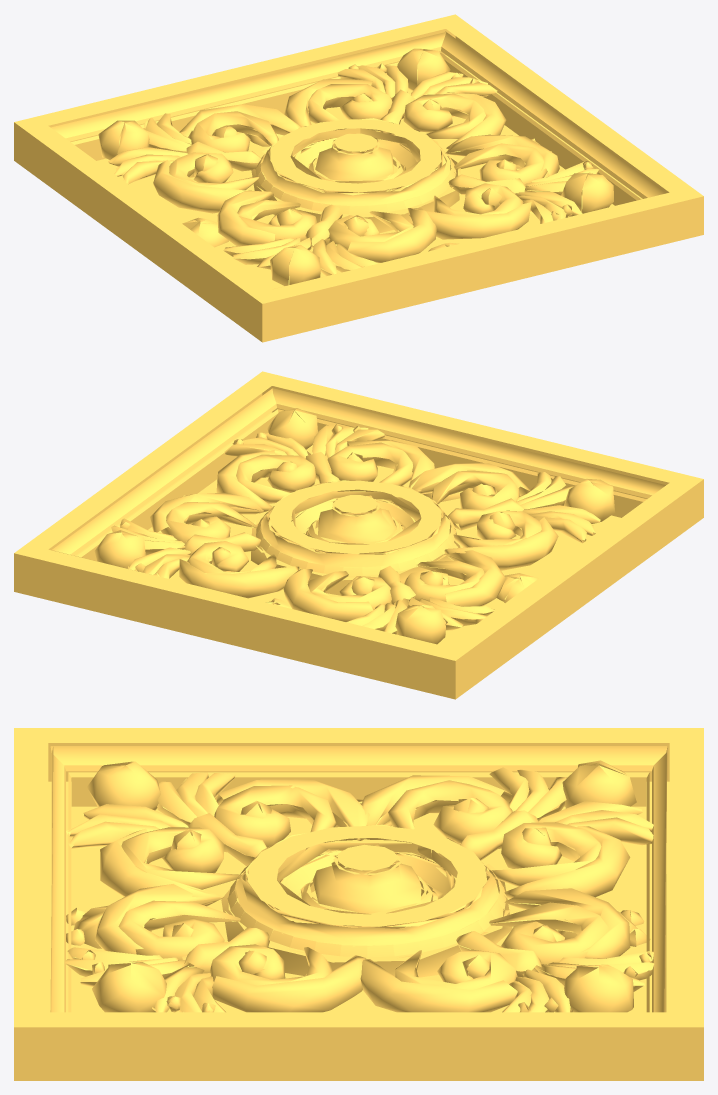
File: Gold_Plate.glb
3 renders of one model, top to bottom at view 1: azimuth 30°, elevation 25°; view 2: azimuth 150°, elevation 25°; view 3: azimuth 270°, elevation 25°, orthographic. The views are drawn at different scales.
Parts seen in each view (by area): view 1: Gold_Plate; view 2: Gold_Plate; view 3: Gold_Plate.
Boxes of the visible parts, x1,y1,x2,y2 form: Gold_Plate: [14, 14, 703, 342]; Gold_Plate: [14, 371, 703, 699]; Gold_Plate: [14, 728, 703, 1080].
Bounding box in the file's own units: 0.65 × 0.0986 × 0.6335.
